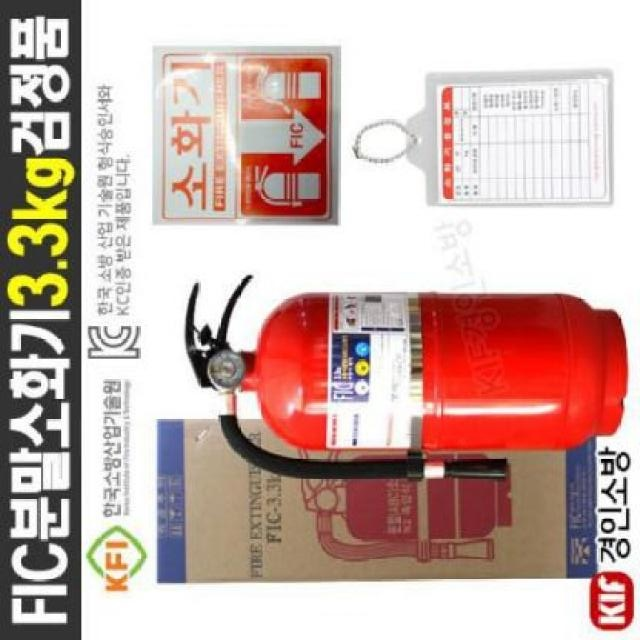fire extinguisher: (184, 275, 630, 482)
